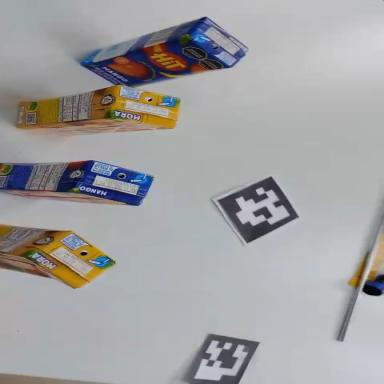HIT-MANGO: (78, 10, 250, 96), (0, 156, 153, 205)
HIT-MORA: (14, 81, 181, 139), (0, 224, 117, 292)
cara_F: (81, 28, 230, 97), (21, 114, 172, 139), (0, 254, 76, 288), (0, 189, 135, 205)
